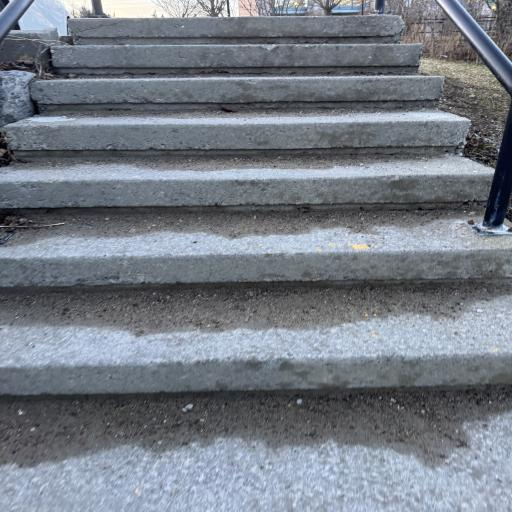Stairs: (0, 16, 512, 394)
